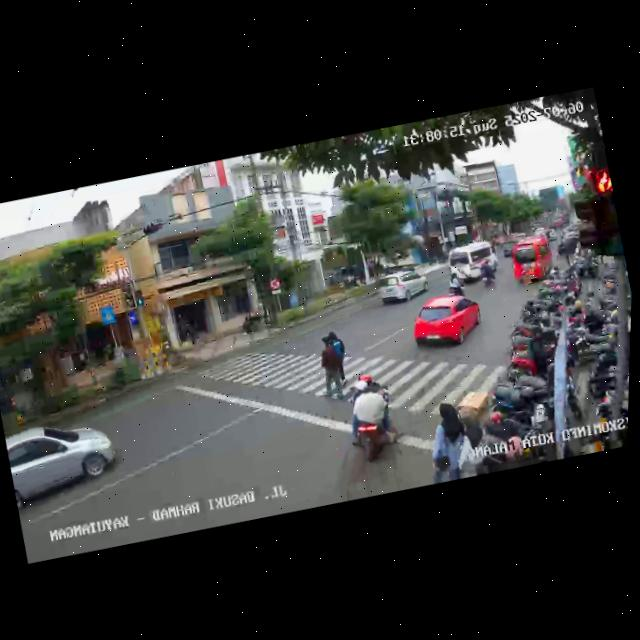car: (3, 409, 129, 517), (405, 288, 488, 357), (507, 232, 560, 289), (444, 238, 503, 287), (374, 266, 432, 309)
motorcycle: (340, 373, 405, 461), (444, 267, 467, 299), (477, 258, 499, 289)
person: (422, 396, 477, 483), (313, 333, 347, 404), (322, 328, 352, 388)
